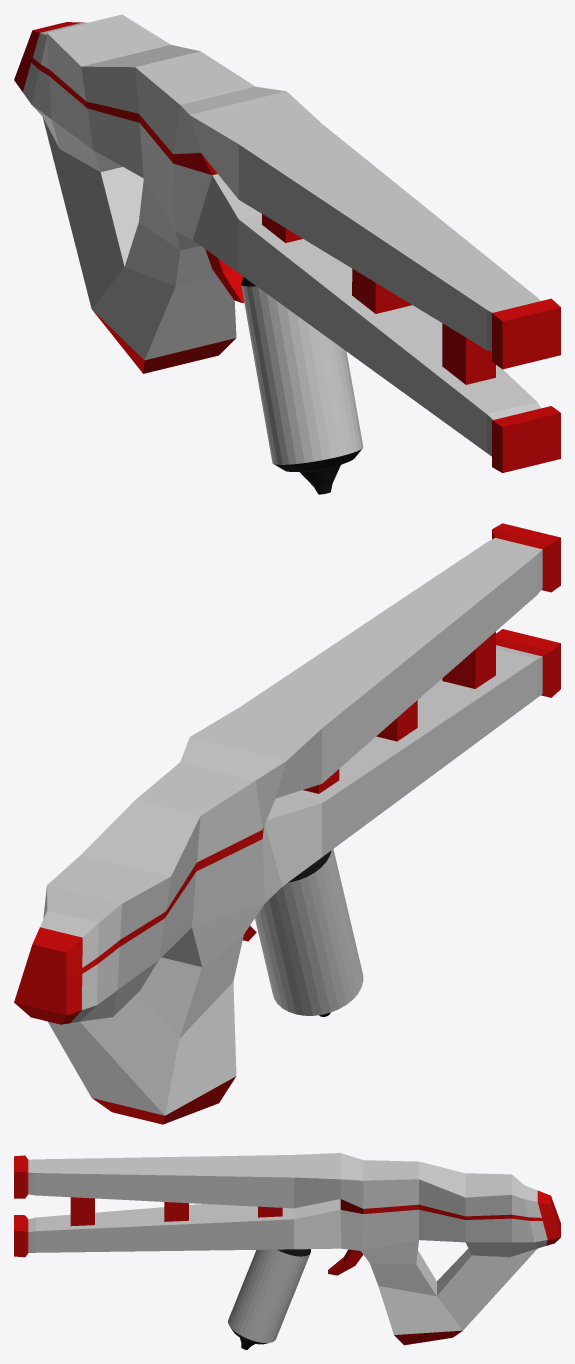
Rendered from railgun_laser.obj.
3 views of the same model, one above another, from view 1: azimuth 30°, elevation 25°; view 2: azimuth 150°, elevation 25°; view 3: azimuth 270°, elevation 25° (orthographic). The views are drawn at different scales.
Visible parts, largest first — view 1: Cube; view 2: Cube; view 3: Cube.
Part boxes in pixels (box(x1,y1,x2,y2)): Cube: box(14, 14, 560, 494); Cube: box(14, 523, 560, 1124); Cube: box(14, 1153, 560, 1349).
Size of the model in its own units: 1.99 by 6.53 by 17.42.
